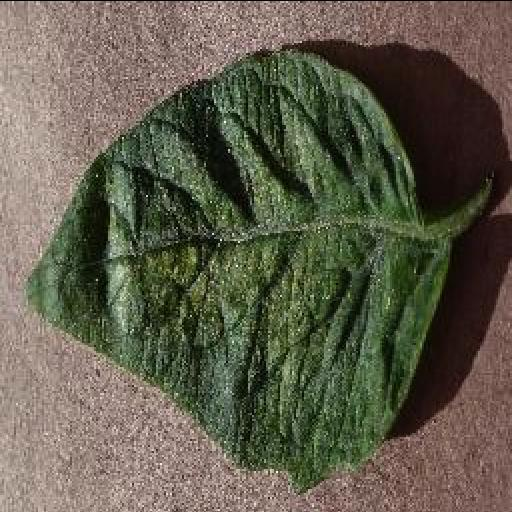disease_tomato: (22, 46, 452, 490)
